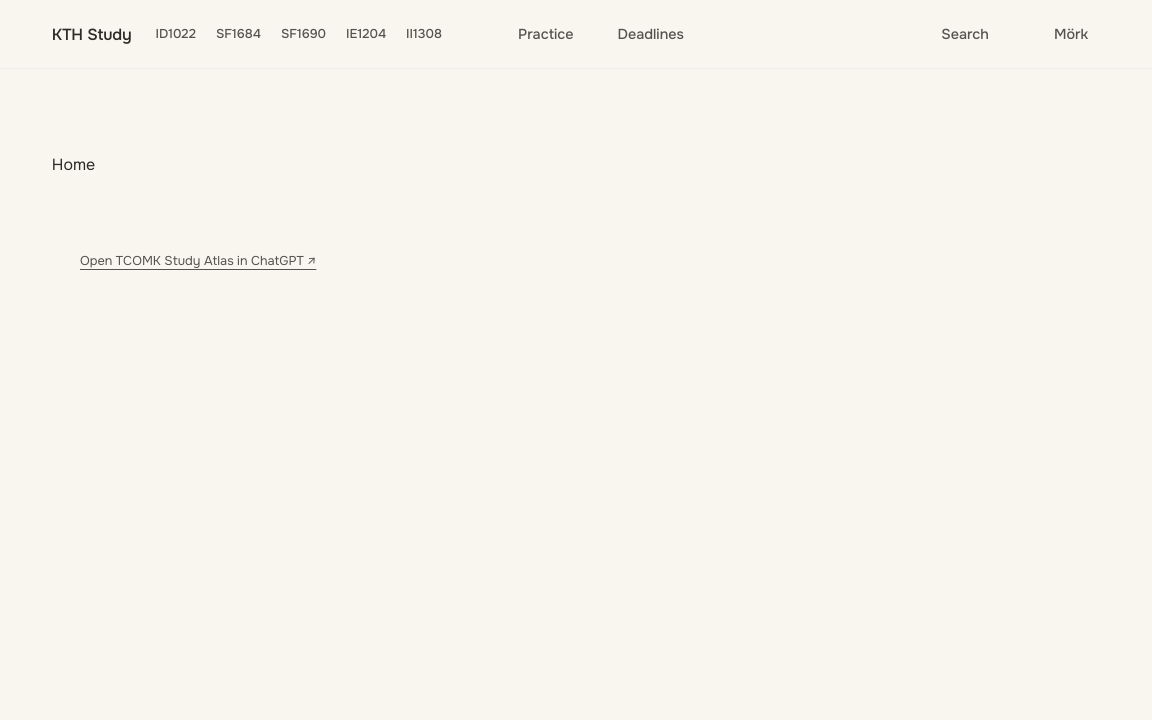
Test: App › shows up to five eligible live results and respects the active filter
Click the button "Search": {"x": 953, "y": 34} 905,12 -> 1001,56
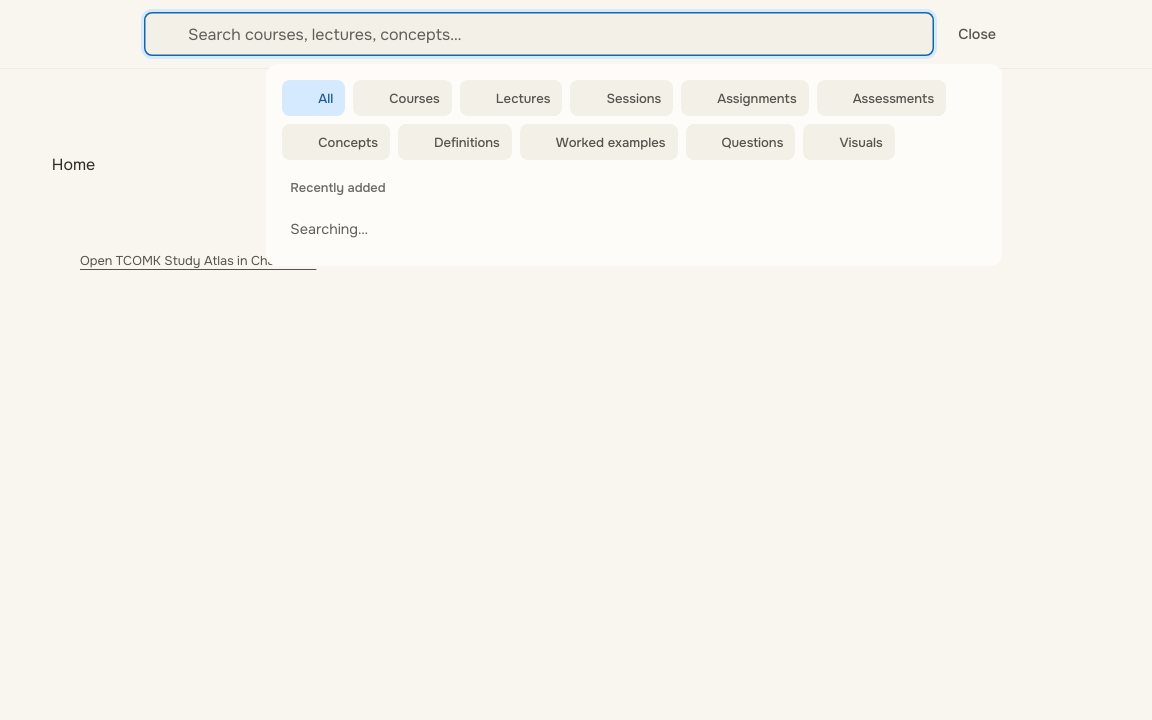
In the search field named "Search all courses": {"x": 539, "y": 34} 144,12 -> 934,56, type "absolute"
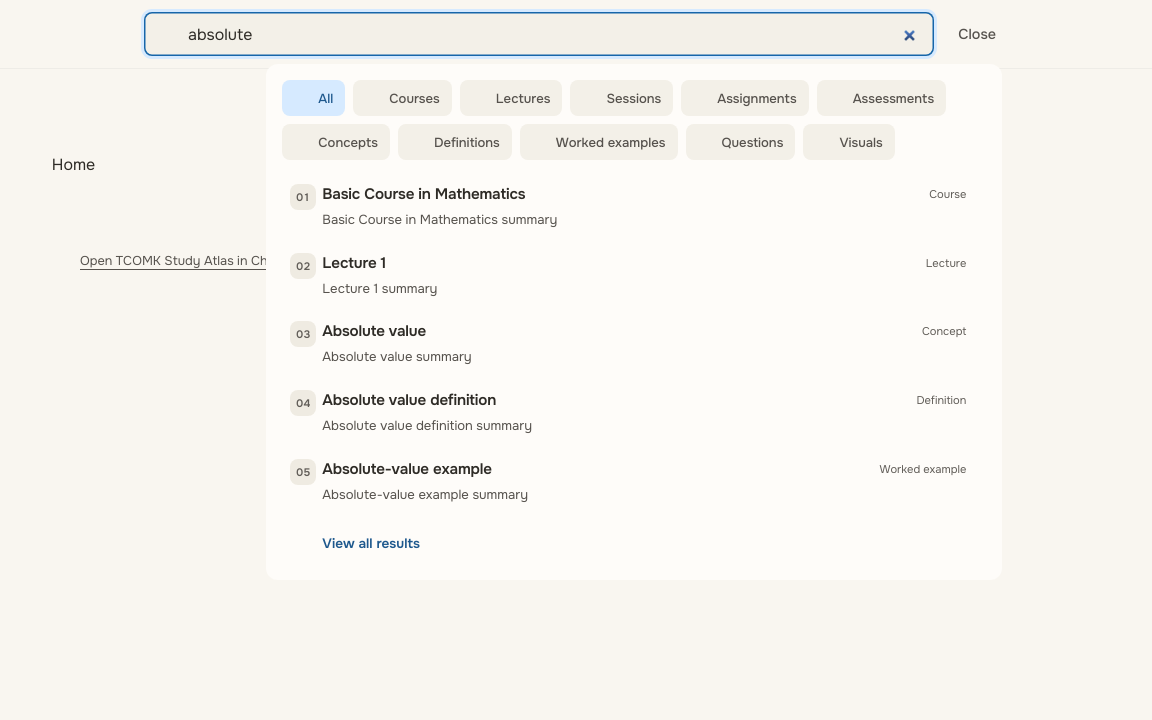
Expected: the number of options is 5, 282,172 -> 986,241; 282,241 -> 986,309; 282,309 -> 986,378; 282,378 -> 986,447; 282,447 -> 986,516
Click the button "Concepts": {"x": 336, "y": 142} 282,124 -> 390,160
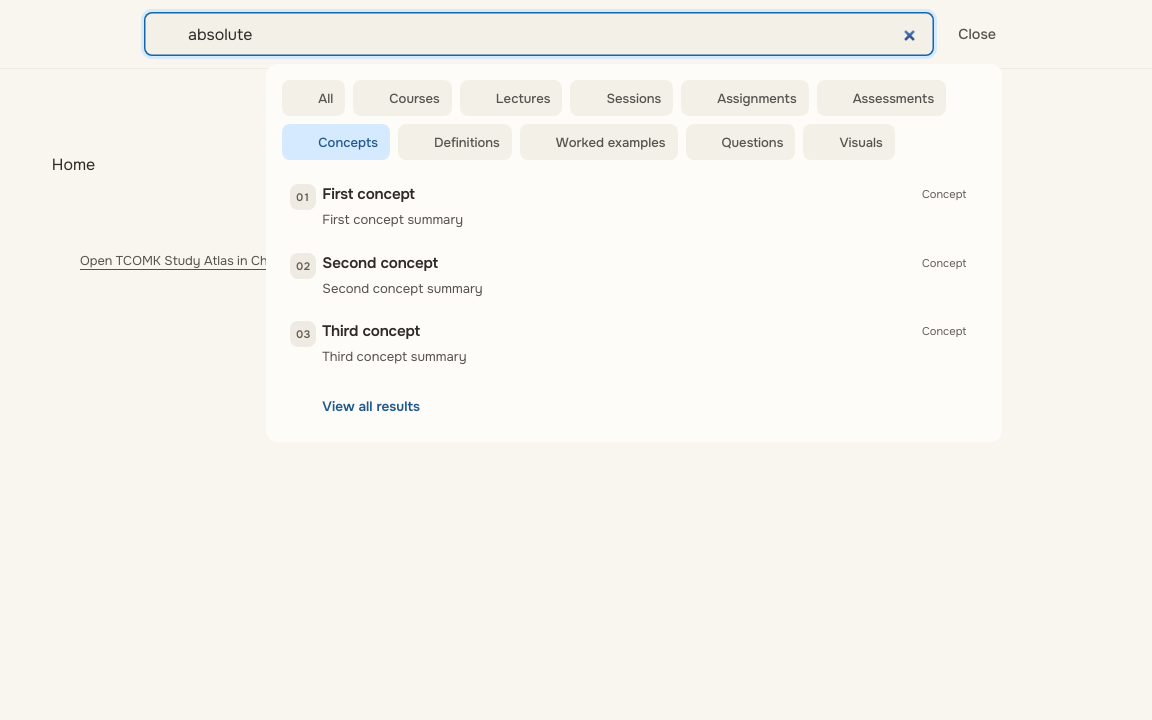
Expected: the number of options is 3, 282,172 -> 986,241; 282,241 -> 986,309; 282,309 -> 986,378
